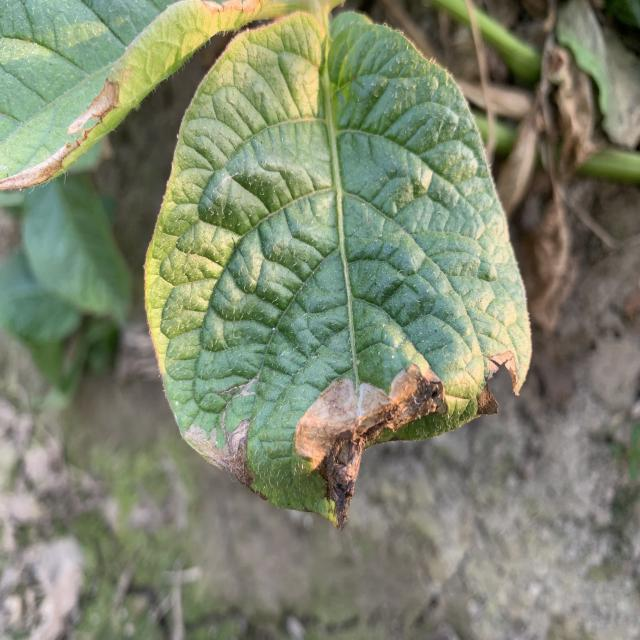lateblight: (294, 363, 448, 528), (0, 78, 119, 190), (185, 420, 254, 487), (490, 352, 519, 395), (478, 385, 498, 415)
